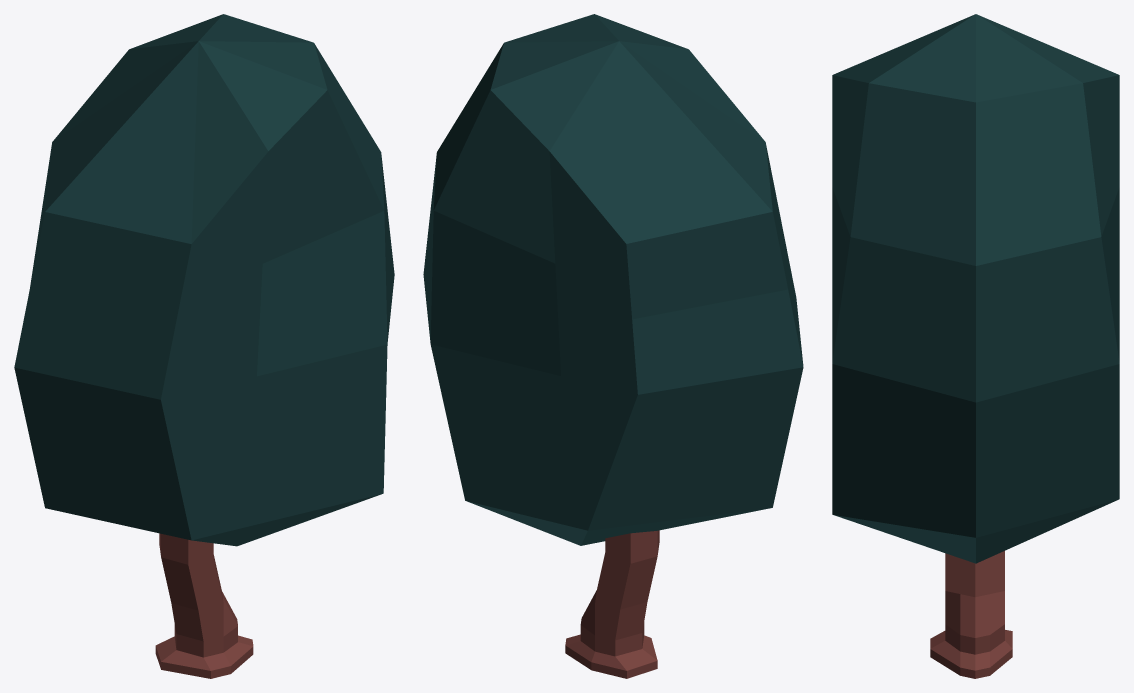
Rendered from tall_tree.gltf.
3 renders of one model, left to right at view 1: azimuth 30°, elevation 25°; view 2: azimuth 150°, elevation 25°; view 3: azimuth 270°, elevation 25°, orthographic. The views are drawn at different scales.
Parts seen in each view (by area): view 1: sphere, cylinder; view 2: sphere, cylinder; view 3: sphere, cylinder.
Boxes of the visible parts, left/top/right/bottom form: sphere: left=14, top=14, right=394, bottom=546; cylinder: left=155, top=533, right=253, bottom=678; sphere: left=423, top=14, right=803, bottom=545; cylinder: left=565, top=530, right=659, bottom=678; sphere: left=832, top=14, right=1119, bottom=563; cylinder: left=930, top=551, right=1012, bottom=678.
Size of the model in its own units: 0.7734 by 1.2 by 0.491.
Materials: 2 (2 with a texture image).
